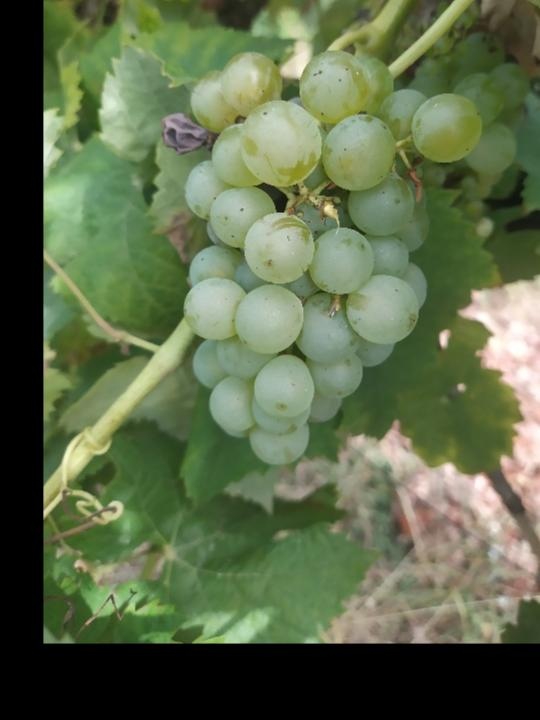grape: (181, 44, 487, 471)
